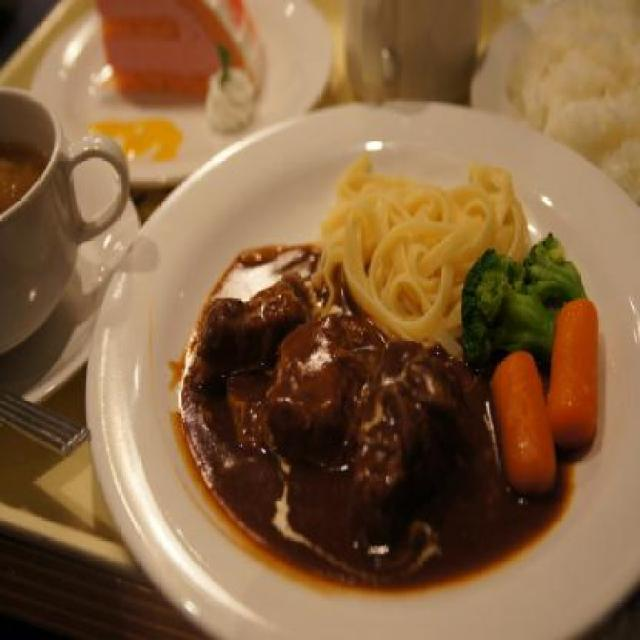Broccoli: (462, 248, 552, 370), (523, 228, 588, 309)
